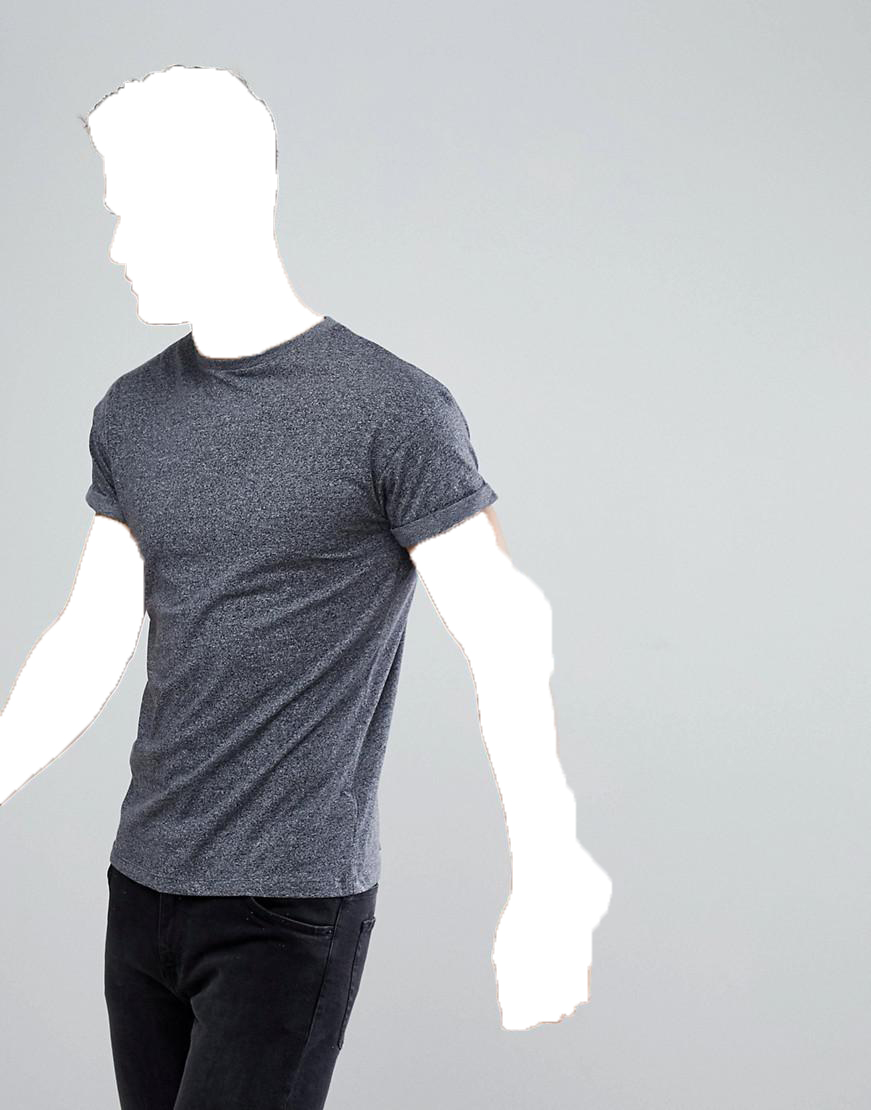teeshirt: (71, 317, 508, 907)
